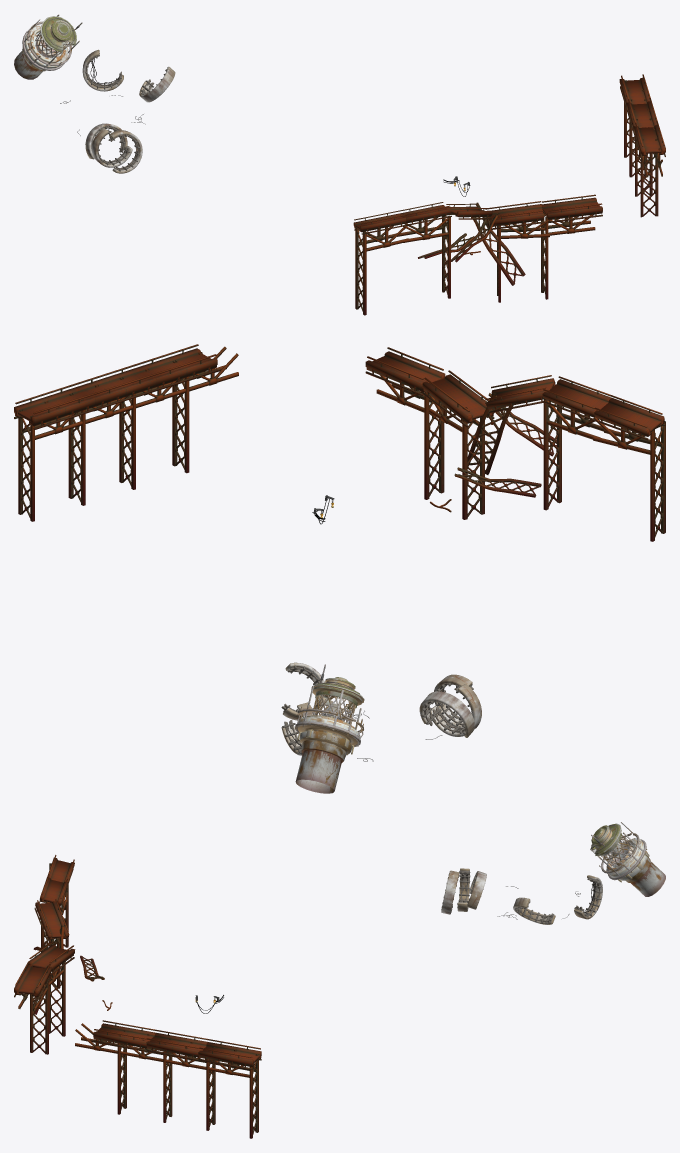
The model's file is Outside_bossOBJ.fbx.
The picture shows the model from 3 angles, top to bottom: view 1: azimuth 30°, elevation 25°; view 2: azimuth 150°, elevation 25°; view 3: azimuth 270°, elevation 25°; orthographic projection. The views are drawn at different scales.
Parts seen in each view (by area): view 1: bossb_lighthouse_8, Bridge_low9, Railroad_low6_116, Bridge_low6, Railroad_low5_115, Bridge_low8, Bridge_low5, Bridge4, Railroad_low4_114, Bridge_low7, Railroad_low7_122, Railroad_low8 (+9 smaller); view 2: bossb_lighthouse_8, Bridge_low9, Bridge_low6, Railroad_low2_112, Bridge_low8, Railroad_low5_115, Railroad_low3_113, Railroad_low6_116, Railroad_low4_114, Bridge_low5, Bridge_low_2, Railroad_low7_122 (+11 smaller); view 3: bossb_lighthouse_8, Railroad_low2_112, Railroad_low4_114, Railroad_low3_113, Bridge_low5, Bridge_low_2, Bridge_low4_5, Bridge_low3_4, Bridge_low8, Railroad_low_111, Railroad_low6_116, Railroad_low5_115 (+7 smaller).
Part boxes in pixels (bbox=[...]): bossb_lighthouse_8: bbox=[14, 14, 82, 79]; Bridge_low9: bbox=[355, 224, 408, 315]; Railroad_low6_116: bbox=[541, 194, 602, 223]; Bridge_low6: bbox=[397, 215, 450, 298]; Railroad_low5_115: bbox=[485, 201, 544, 229]; Bridge_low8: bbox=[541, 213, 595, 299]; Bridge_low5: bbox=[640, 138, 662, 217]; Bridge4: bbox=[472, 202, 525, 285]; Railroad_low4_114: bbox=[634, 121, 665, 158]; Bridge_low7: bbox=[497, 213, 549, 302]; Railroad_low7_122: bbox=[353, 210, 406, 234]; Railroad_low8: bbox=[399, 202, 451, 225]; bossb_lighthouse_8: bbox=[295, 664, 364, 793]; Bridge_low9: bbox=[593, 417, 665, 541]; Bridge_low6: bbox=[543, 398, 613, 510]; Railroad_low2_112: bbox=[14, 383, 95, 429]; Bridge_low8: bbox=[376, 375, 444, 499]; Railroad_low5_115: bbox=[422, 370, 494, 426]; Railroad_low3_113: bbox=[76, 364, 156, 410]; Railroad_low6_116: bbox=[365, 347, 445, 395]; Railroad_low4_114: bbox=[136, 344, 217, 390]; Bridge_low5: bbox=[172, 346, 238, 473]; Bridge_low_2: bbox=[18, 401, 82, 521]; Railroad_low7_122: bbox=[594, 395, 665, 440]; bossb_lighthouse_8: bbox=[590, 822, 665, 896]; Railroad_low2_112: bbox=[198, 1039, 261, 1069]; Railroad_low4_114: bbox=[93, 1020, 155, 1051]; Railroad_low3_113: bbox=[146, 1029, 208, 1060]; Bridge_low5: bbox=[75, 1023, 126, 1114]; Bridge_low_2: bbox=[208, 1049, 258, 1138]; Bridge_low4_5: bbox=[120, 1034, 172, 1122]; Bridge_low3_4: bbox=[165, 1042, 215, 1130]; Bridge_low8: bbox=[18, 977, 48, 1054]; Railroad_low_111: bbox=[34, 899, 69, 941]; Railroad_low6_116: bbox=[14, 961, 51, 999]; Railroad_low5_115: bbox=[28, 941, 75, 974].
Size of the model in its own units: 18571 by 23060 by 4819.
